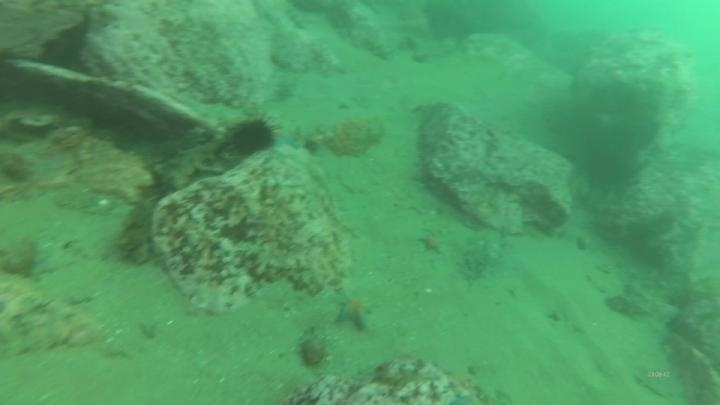echinus: (581, 146, 635, 195), (227, 115, 278, 158)
holothurian: (151, 135, 227, 198), (114, 182, 166, 268)
starfish: (332, 288, 377, 334), (268, 122, 305, 153), (415, 229, 448, 257)
